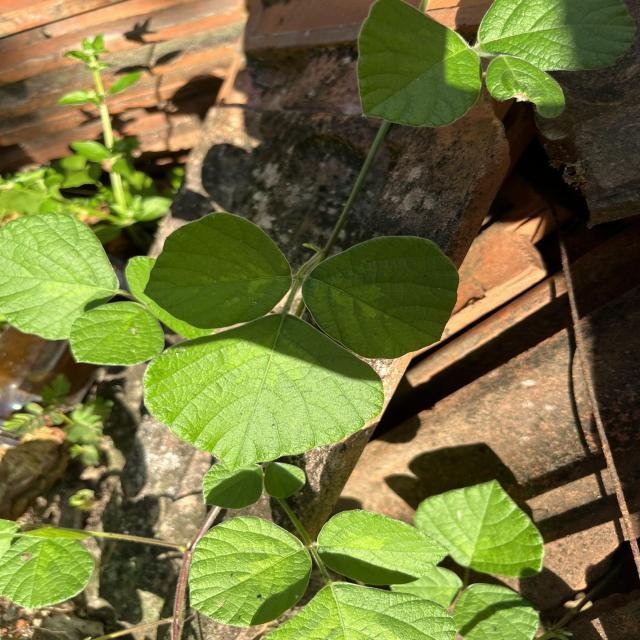Pseudarthria viscida: (137, 208, 466, 478)
